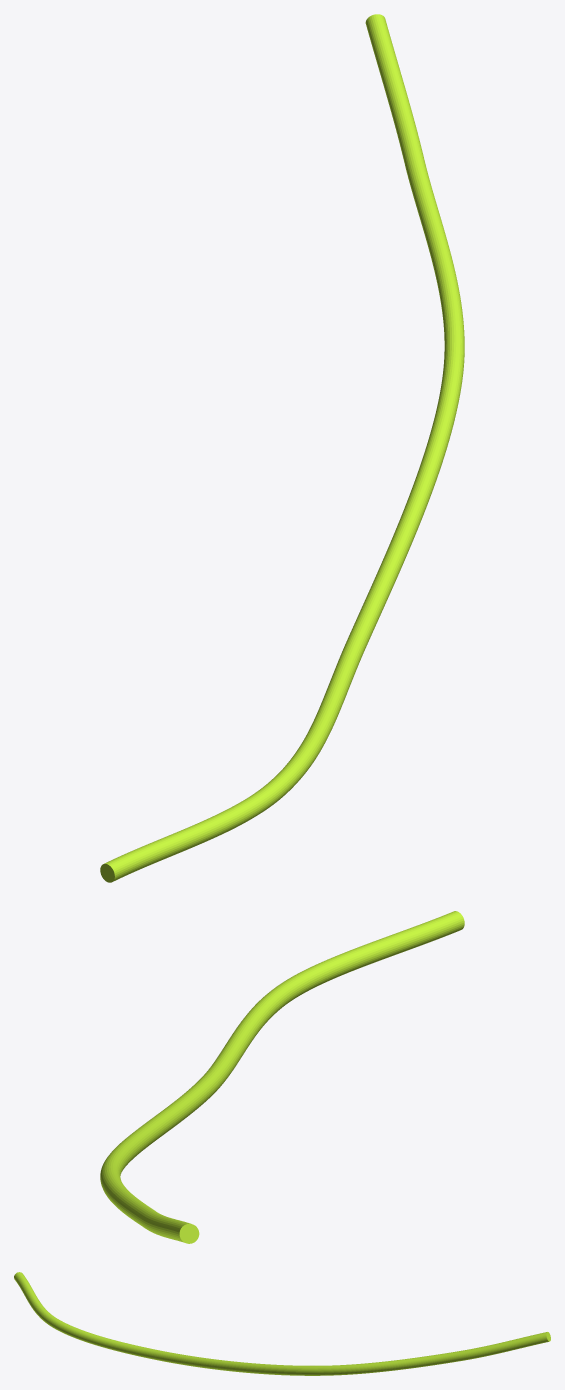
File: faces22 - linechin.glb
3 views of the same model, one above another, from view 1: azimuth 30°, elevation 25°; view 2: azimuth 210°, elevation 25°; view 3: azimuth 270°, elevation 25° (orthographic). The views are drawn at different scales.
Parts seen in each view (by area): view 1: Tube; view 2: Tube; view 3: Tube.
Part boxes in pixels (bbox=[...]): Tube: bbox=[100, 14, 464, 882]; Tube: bbox=[100, 911, 464, 1243]; Tube: bbox=[14, 1272, 550, 1375].
Bounding box in the file's own units: 0.4764 × 0.1616 × 0.5479.
